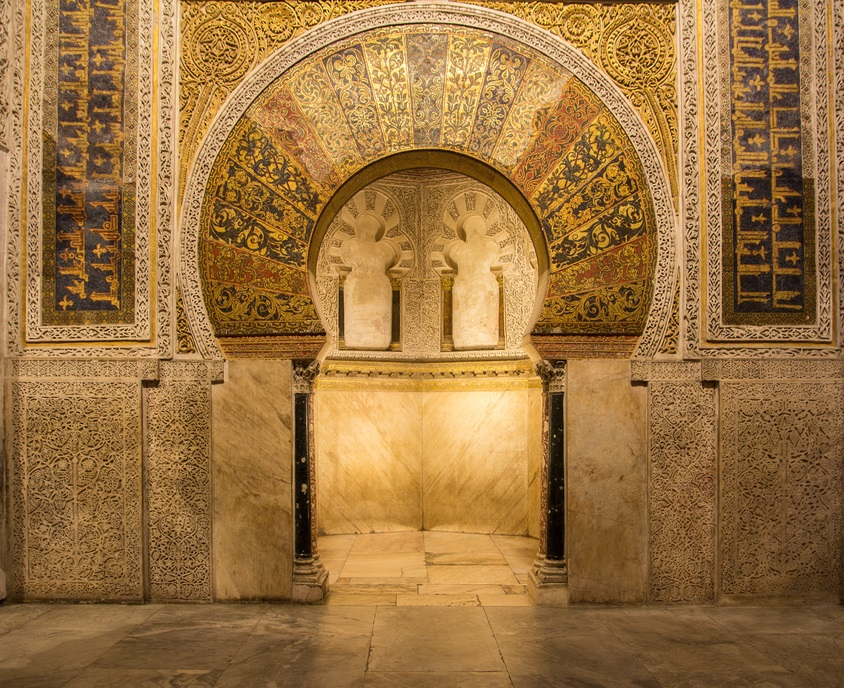arco-herradura: (271, 127, 585, 386)
